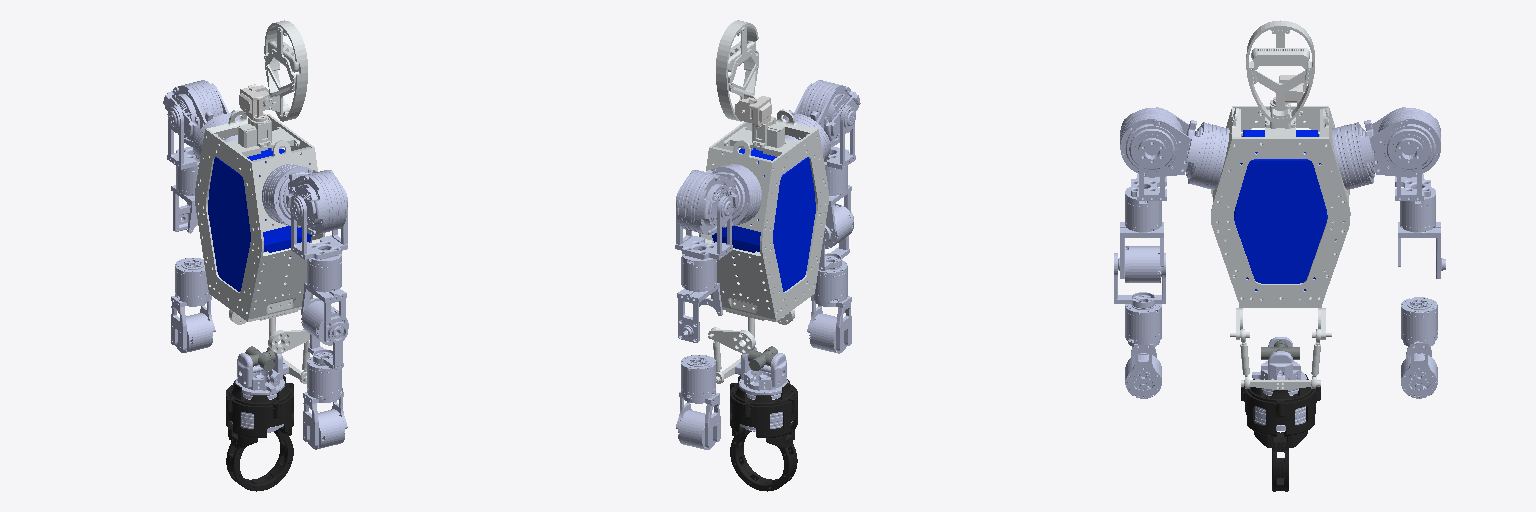
robot.urdf — sentient_humanoid_upper_body:
<?xml version='1.0' encoding='utf-8'?>
<robot name="sentient_humanoid_upper_body">
  <link name="humanoid_origin" />
  <link name="pelvis">
    <visual>
      <origin xyz="0 0 0" rpy="0 0 0" />
      <geometry>
        <mesh filename="package://humanoid_pkg/meshes/base_link.stl" />
      </geometry>
      <material name="dark">
        <color rgba="0.2 0.2 0.2 1" />
      </material>
    </visual>
  </link>
  <link name="base_link">
    <inertial>
      <origin xyz="0.00011927 -0.053041 0.11817" rpy="0 0 0" />
      <mass value="0.85358" />
      <inertia ixx="0.0012389" ixy="-1.2474E-07" ixz="3.1171E-09" iyy="0.0016461" iyz="-3.8131E-06" izz="0.0013091" />
    </inertial>
    <visual>
      <origin xyz="0 0 0" rpy="0 0 0" />
      <geometry>
        <mesh filename="package://humanoid_pkg/meshes/base_link.stl" />
      </geometry>
      <material name="">
        <color rgba="0.89804 0.91765 0.92941 1" />
      </material>
    </visual>
    <collision>
      <origin xyz="0 0 0" rpy="0 0 0" />
      <geometry>
        <mesh filename="package://humanoid_pkg/meshes/base_link.stl" />
      </geometry>
    </collision>
  </link>
  <joint name="base_link_joint" type="fixed">
    <parent link="pelvis" />
    <child link="base_link" />
  </joint>
  <link name="torso_link">
    <inertial>
      <origin xyz="0.00078123 -0.00026047 0.013243" rpy="0 0 0" />
      <mass value="0.96233" />
      <inertia ixx="0.00046878" ixy="5.0679E-10" ixz="3.3744E-06" iyy="0.00045115" iyz="2.8575E-07" izz="0.000663" />
    </inertial>
    <visual>
      <origin xyz="0 0 0" rpy="0 0 0" />
      <geometry>
        <mesh filename="package://humanoid_pkg/meshes/torso_link.stl" />
      </geometry>
      <material name="">
        <color rgba="0.79216 0.81961 0.93333 1" />
      </material>
    </visual>
    <collision>
      <origin xyz="0 0 0" rpy="0 0 0" />
      <geometry>
        <mesh filename="package://humanoid_pkg/meshes/torso_link.stl" />
      </geometry>
    </collision>
  </link>
  <joint name="torso_joint" type="revolute">
    <origin xyz="2.08135124461772E-05 -0.0639999966156143 0.1123" rpy="0 0 0.000325211137678403" />
    <parent link="base_link" />
    <child link="torso_link" />
    <axis xyz="0 0 1" />
    <limit lower="-1.570796326795" upper="1.570796326795" effort="10" velocity="1.0" />
  </joint>
  <link name="waist_roll_link">
    <inertial>
      <origin xyz="-3.1564E-09 3.1564E-09 1.3878E-16" rpy="0 0 0" />
      <mass value="0.23579" />
      <inertia ixx="5.1045E-05" ixy="-2.3525E-18" ixz="4.2913E-11" iyy="5.1045E-05" iyz="4.2913E-11" izz="9.0898E-05" />
    </inertial>
    <visual>
      <origin xyz="0 0 0" rpy="0 0 0" />
      <geometry>
        <mesh filename="package://humanoid_pkg/meshes/waist_roll_link.stl" />
      </geometry>
      <material name="">
        <color rgba="0.52941 0.54902 0.54902 1" />
      </material>
    </visual>
    <collision>
      <origin xyz="0 0 0" rpy="0 0 0" />
      <geometry>
        <mesh filename="package://humanoid_pkg/meshes/waist_roll_link.stl" />
      </geometry>
    </collision>
  </link>
  <joint name="waist_roll_joint" type="revolute">
    <origin xyz="0 0 0.0615999999999845" rpy="0 0 0" />
    <parent link="torso_link" />
    <child link="waist_roll_link" />
    <axis xyz="1 0 0" />
    <limit lower="-0.270002435284" upper="0.270002435284" effort="10" velocity="1.0" />
  </joint>
  <link name="waist_pitch_link">
    <inertial>
      <origin xyz="-0.00021479 0.02804 0.057521" rpy="0 0 0" />
      <mass value="0.91683" />
      <inertia ixx="0.0010179" ixy="-3.869E-07" ixz="3.1729E-07" iyy="0.0011541" iyz="-3.7643E-08" izz="0.00051514" />
    </inertial>
    <visual>
      <origin xyz="0 0 0" rpy="0 0 0" />
      <geometry>
        <mesh filename="package://humanoid_pkg/meshes/waist_pitch_link.stl" />
      </geometry>
      <material name="">
        <color rgba="0.89804 0.91765 0.92941 1" />
      </material>
    </visual>
    <collision>
      <origin xyz="0 0 0" rpy="0 0 0" />
      <geometry>
        <mesh filename="package://humanoid_pkg/meshes/waist_pitch_link.stl" />
      </geometry>
    </collision>
  </link>
  <joint name="waist_pitch_joint" type="revolute">
    <origin xyz="0 -0.0300000000000053 0" rpy="0 0 0" />
    <parent link="waist_roll_link" />
    <child link="waist_pitch_link" />
    <axis xyz="0 1 0" />
    <limit lower="-0.767944870878" upper="0.767944870878" effort="10" velocity="1.0" />
  </joint>
  <link name="chest_link">
    <inertial>
      <origin xyz="-0.059002 -4.6806E-06 -0.032819" rpy="0 0 0" />
      <mass value="1.7205" />
      <inertia ixx="0.0090608" ixy="-1.7864E-07" ixz="-5.4617E-07" iyy="0.0073219" iyz="6.0203E-08" izz="0.0046362" />
    </inertial>
    <visual>
      <origin xyz="0 0 0" rpy="0 0 0" />
      <geometry>
        <mesh filename="package://humanoid_pkg/meshes/chest_link.stl" />
      </geometry>
      <material name="">
        <color rgba="0.89804 0.91765 0.92941 1" />
      </material>
    </visual>
    <collision>
      <origin xyz="0 0 0" rpy="0 0 0" />
      <geometry>
        <mesh filename="package://humanoid_pkg/meshes/chest_link.stl" />
      </geometry>
    </collision>
  </link>
  <link name="battery_link">
    <inertial>
      <origin xyz="0 0 0" rpy="0 0 0" />
      <mass value="7" />
      <inertia ixx="0.035" ixy="0.0" ixz="0.0" iyy="0.037" iyz="0.0" izz="0.014" />
    </inertial>
    <visual>
      <origin xyz="-0.055 -0.07497698 -0.115" rpy="1.57079632679 0 1.57079632679" />
      <geometry>
        <mesh filename="package://humanoid_pkg/meshes/battery.stl" scale="0.001 0.001 0.001" />
      </geometry>
      <material name="battery_blue">
        <color rgba="0.0 0.18 1.0 1" />
      </material>
    </visual>
    <collision>
      <origin xyz="-0.055 -0.07497698 -0.115" rpy="1.57079632679 0 1.57079632679" />
      <geometry>
        <mesh filename="package://humanoid_pkg/meshes/battery.stl" scale="0.001 0.001 0.001" />
      </geometry>
    </collision>
  </link>
  <joint name="chest_joint" type="fixed">
    <origin xyz="0.0589999999999813 0.0299987979681032 0.254963551720086" rpy="0 0 0" />
    <parent link="waist_pitch_link" />
    <child link="chest_link" />
    <axis xyz="0 0 0" />
  </joint>
  <joint name="battery_joint" type="fixed">
    <origin xyz="-0.06 0.0 -0.015" rpy="0 0 0" />
    <parent link="chest_link" />
    <child link="battery_link" />
  </joint>
  <link name="left_shoulder_pitch_link">
    <inertial>
      <origin xyz="0.00031467 -0.0041125 -0.0009434" rpy="0 0 0" />
      <mass value="0.55787" />
      <inertia ixx="0.00046536" ixy="-2.4876E-08" ixz="2.6512E-07" iyy="0.00054598" iyz="6.1625E-05" izz="0.00033254" />
    </inertial>
    <visual>
      <origin xyz="0 0 0" rpy="0 0 0" />
      <geometry>
        <mesh filename="package://humanoid_pkg/meshes/left_shoulder_pitch_link.stl" />
      </geometry>
      <material name="">
        <color rgba="0.79216 0.81961 0.93333 1" />
      </material>
    </visual>
    <collision>
      <origin xyz="0 0 0" rpy="0 0 0" />
      <geometry>
        <mesh filename="package://humanoid_pkg/meshes/left_shoulder_pitch_link.stl" />
      </geometry>
    </collision>
  </link>
  <joint name="left_shoulder_pitch_joint" type="revolute">
    <origin xyz="-0.0589999999999941 0.133920443430172 0.0867417663212657" rpy="0 0 0" />
    <parent link="chest_link" />
    <child link="left_shoulder_pitch_link" />
    <axis xyz="0 0.965925826289068 0.258819045102522" />
    <limit lower="-3.141592653590" upper="3.141592653590" effort="10" velocity="1.0" />
  </joint>
  <link name="left_shoulder_roll_link">
    <inertial>
      <origin xyz="-0.019316 0.00045538 -0.0075538" rpy="0 0 0" />
      <mass value="0.48965" />
      <inertia ixx="0.00052874" ixy="1.5282E-06" ixz="2.6093E-07" iyy="0.00033494" iyz="-1.2208E-05" izz="0.00033875" />
    </inertial>
    <visual>
      <origin xyz="0 0 0" rpy="0 0 0" />
      <geometry>
        <mesh filename="package://humanoid_pkg/meshes/left_shoulder_roll_link.stl" />
      </geometry>
      <material name="">
        <color rgba="0.79216 0.81961 0.93333 1" />
      </material>
    </visual>
    <collision>
      <origin xyz="0 0 0" rpy="0 0 0" />
      <geometry>
        <mesh filename="package://humanoid_pkg/meshes/left_shoulder_roll_link.stl" />
      </geometry>
    </collision>
  </link>
  <joint name="left_shoulder_roll_joint" type="revolute">
    <origin xyz="-0.0213499999999808 0.0647170303613817 0.0173408760218703" rpy="0 0 3.14159265359" />
    <parent link="left_shoulder_pitch_link" />
    <child link="left_shoulder_roll_link" />
    <axis xyz="-1 0 0" />
    <limit lower="-0.356919832033" upper="3.141592653590" effort="10" velocity="1.0" />
  </joint>
  <link name="left_elbow_yaw_link">
    <inertial>
      <origin xyz="3.389E-05 -0.0037073 0.00016863" rpy="0 0 0" />
      <mass value="0.24344" />
      <inertia ixx="9.1765E-05" ixy="-1.8509E-08" ixz="-5.5968E-08" iyy="9.535E-05" iyz="-4.6348E-07" izz="8.437E-05" />
    </inertial>
    <visual>
      <origin xyz="0 0 0" rpy="0 0 0" />
      <geometry>
        <mesh filename="package://humanoid_pkg/meshes/left_elbow_yaw_link.stl" />
      </geometry>
      <material name="">
        <color rgba="0.79216 0.81961 0.93333 1" />
      </material>
    </visual>
    <collision>
      <origin xyz="0 0 0" rpy="0 0 0" />
      <geometry>
        <mesh filename="package://humanoid_pkg/meshes/left_elbow_yaw_link.stl" />
      </geometry>
    </collision>
  </link>
  <joint name="left_elbow_yaw_joint" type="revolute">
    <origin xyz="-0.0196500000008165 -0.0133178667899935 -0.140580365488154" rpy="0 0 0" />
    <parent link="left_shoulder_roll_link" />
    <child link="left_elbow_yaw_link" />
    <axis xyz="0 0 -1" />
    <limit lower="-1.570796326795" upper="1.570796326795" effort="10" velocity="1.0" />
  </joint>
  <link name="left_elbow_forearm_yaw_link">
    <inertial>
      <origin xyz="4.0886E-05 -0.026352 -0.013654" rpy="0 0 0" />
      <mass value="0.20469" />
      <inertia ixx="8.4119E-05" ixy="5.7255E-08" ixz="-1.8341E-08" iyy="8.0815E-05" iyz="1.478E-07" izz="6.5937E-05" />
    </inertial>
    <visual>
      <origin xyz="0 0 0" rpy="0 0 0" />
      <geometry>
        <mesh filename="package://humanoid_pkg/meshes/right_elbow_forearm_yaw_link.stl" />
      </geometry>
      <material name="">
        <color rgba="0.79216 0.81961 0.93333 1" />
      </material>
    </visual>
    <collision>
      <origin xyz="0 0 0" rpy="0 0 0" />
      <geometry>
        <mesh filename="package://humanoid_pkg/meshes/right_elbow_forearm_yaw_link.stl" />
      </geometry>
    </collision>
  </link>
  <joint name="left_elbow_forearm_yaw_joint" type="revolute">
    <origin xyz="0 -0.028499999999996 -0.0682500000000194" rpy="0 0 3.14159265359" />
    <parent link="left_elbow_yaw_link" />
    <child link="left_elbow_forearm_yaw_link" />
    <axis xyz="0 -1 0" />
    <limit lower="-1.570796326795" upper="1.570796326795" effort="10" velocity="1.0" />
  </joint>
  <link name="left_wrist_yaw_link">
    <inertial>
      <origin xyz="-0.0022153 -0.00030373 -0.017432" rpy="0 0 0" />
      <mass value="0.3165" />
      <inertia ixx="0.00013143" ixy="3.0794E-08" ixz="4.312E-07" iyy="0.0001122" iyz="-3.0606E-08" izz="0.00010375" />
    </inertial>
    <visual>
      <origin xyz="0 0 0" rpy="0 0 0" />
      <geometry>
        <mesh filename="package://humanoid_pkg/meshes/left_wrist_yaw_link.stl" />
      </geometry>
      <material name="">
        <color rgba="0.79216 0.81961 0.93333 1" />
      </material>
    </visual>
    <collision>
      <origin xyz="0 0 0" rpy="0 0 0" />
      <geometry>
        <mesh filename="package://humanoid_pkg/meshes/left_wrist_yaw_link.stl" />
      </geometry>
    </collision>
  </link>
  <joint name="left_wrist_yaw_joint" type="revolute">
    <origin xyz="2.72119635786744E-05 -0.0261962529456502 -0.12349999999999" rpy="0 0 0" />
    <parent link="left_elbow_forearm_yaw_link" />
    <child link="left_wrist_yaw_link" />
    <axis xyz="0 0 -1" />
    <limit lower="-1.570796326795" upper="1.570796326795" effort="10" velocity="1.0" />
  </joint>
  <link name="right_shoulder_pitch_link">
    <inertial>
      <origin xyz="0.00031467 0.0086652 -0.0021119" rpy="0 0 0" />
      <mass value="0.55787" />
      <inertia ixx="0.00046536" ixy="2.4609E-08" ixz="2.6413E-07" iyy="0.00054599" iyz="-6.1605E-05" izz="0.00033253" />
    </inertial>
    <visual>
      <origin xyz="0 0 0" rpy="0 0 0" />
      <geometry>
        <mesh filename="package://humanoid_pkg/meshes/right_shoulder_pitch_link.stl" />
      </geometry>
      <material name="">
        <color rgba="0.79216 0.81961 0.93333 1" />
      </material>
    </visual>
    <collision>
      <origin xyz="0 0 0" rpy="0 0 0" />
      <geometry>
        <mesh filename="package://humanoid_pkg/meshes/right_shoulder_pitch_link.stl" />
      </geometry>
    </collision>
  </link>
  <joint name="right_shoulder_pitch_joint" type="revolute">
    <origin xyz="-0.0589999999999747 -0.138457890749933 0.0879582158332528" rpy="0 0 0" />
    <parent link="chest_link" />
    <child link="right_shoulder_pitch_link" />
    <axis xyz="0 -0.965925826289067 0.258819045102526" />
    <limit lower="-3.141592653590" upper="3.141592653590" effort="10" velocity="1.0" />
  </joint>
  <link name="right_shoulder_roll_link">
    <inertial>
      <origin xyz="-0.019338 -0.00043324 -0.007383" rpy="0 0 0" />
      <mass value="0.48888" />
      <inertia ixx="0.00052841" ixy="-1.5939E-06" ixz="2.8547E-07" iyy="0.00033462" iyz="1.2209E-05" izz="0.00033811" />
    </inertial>
    <visual>
      <origin xyz="0 0 0" rpy="0 0 0" />
      <geometry>
        <mesh filename="package://humanoid_pkg/meshes/right_shoulder_roll_link.stl" />
      </geometry>
      <material name="">
        <color rgba="0.79216 0.81961 0.93333 1" />
      </material>
    </visual>
    <collision>
      <origin xyz="0 0 0" rpy="0 0 0" />
      <geometry>
        <mesh filename="package://humanoid_pkg/meshes/right_shoulder_roll_link.stl" />
      </geometry>
    </collision>
  </link>
  <joint name="right_shoulder_roll_joint" type="revolute">
    <origin xyz="-0.0213500000000035 -0.0601771789778188 0.0161244265098969" rpy="0 0 3.14159265359" />
    <parent link="right_shoulder_pitch_link" />
    <child link="right_shoulder_roll_link" />
    <axis xyz="-1 0 0" />
    <limit lower="-3.141592653590" upper="0.356919832033" effort="10" velocity="1.0" />
  </joint>
  <link name="right_elbow_yaw_link">
    <inertial>
      <origin xyz="-4.3563E-07 0.0037417 0.00016863" rpy="0 0 0" />
      <mass value="0.24344" />
      <inertia ixx="9.1717E-05" ixy="1.8529E-08" ixz="2.6213E-09" iyy="9.5398E-05" iyz="4.048E-07" izz="8.437E-05" />
    </inertial>
    <visual>
      <origin xyz="0 0 0" rpy="0 0 0" />
      <geometry>
        <mesh filename="package://humanoid_pkg/meshes/right_elbow_yaw_link.stl" />
      </geometry>
      <material name="">
        <color rgba="0.79216 0.81961 0.93333 1" />
      </material>
    </visual>
    <collision>
      <origin xyz="0 0 0" rpy="0 0 0" />
      <geometry>
        <mesh filename="package://humanoid_pkg/meshes/right_elbow_yaw_link.stl" />
      </geometry>
    </collision>
  </link>
  <joint name="right_elbow_yaw_joint" type="revolute">
    <origin xyz="-0.0196499999999985 0.0133178667891752 -0.140580365488174" rpy="0 0 0" />
    <parent link="right_shoulder_roll_link" />
    <child link="right_elbow_yaw_link" />
    <axis xyz="0 0 -1" />
    <limit lower="-1.570796326795" upper="1.570796326795" effort="10" velocity="1.0" />
  </joint>
  <link name="right_elbow_forearm_yaw_link">
    <inertial>
      <origin xyz="-0.00034522 -0.028398 -0.013635" rpy="0 0 0" />
      <mass value="0.20469" />
      <inertia ixx="8.4119E-05" ixy="5.7255E-08" ixz="1.8341E-08" iyy="8.0815E-05" iyz="-1.478E-07" izz="6.5937E-05" />
    </inertial>
    <visual>
      <origin xyz="0 0 0" rpy="0 0 0" />
      <geometry>
        <mesh filename="package://humanoid_pkg/meshes/left_elbow_forearm_yaw_link.stl" />
      </geometry>
      <material name="">
        <color rgba="0.79216 0.81961 0.93333 1" />
      </material>
    </visual>
    <collision>
      <origin xyz="0 0 0" rpy="0 0 0" />
      <geometry>
        <mesh filename="package://humanoid_pkg/meshes/left_elbow_forearm_yaw_link.stl" />
      </geometry>
    </collision>
  </link>
  <joint name="right_elbow_forearm_yaw_joint" type="revolute">
    <origin xyz="0.000304330674491246 0.0282500000008096 -0.068269636815096" rpy="0 0 0" />
    <parent link="right_elbow_yaw_link" />
    <child link="right_elbow_forearm_yaw_link" />
    <axis xyz="0 -1 0" />
    <limit lower="-1.570796326795" upper="1.570796326795" effort="140" velocity="1.0" />
  </joint>
  <link name="right_wrist_yaw_link">
    <inertial>
      <origin xyz="-0.0019393 0.00024629 -0.017432" rpy="0 0 0" />
      <mass value="0.3165" />
      <inertia ixx="0.00013144" ixy="6.582E-08" ixz="4.7674E-07" iyy="0.00011219" iyz="6.2895E-08" izz="0.00010375" />
    </inertial>
    <visual>
      <origin xyz="0 0 0" rpy="0 0 0" />
      <geometry>
        <mesh filename="package://humanoid_pkg/meshes/right_wrist_yaw_link.stl" />
      </geometry>
      <material name="">
        <color rgba="0.79216 0.81961 0.93333 1" />
      </material>
    </visual>
    <collision>
      <origin xyz="0 0 0" rpy="0 0 0" />
      <geometry>
        <mesh filename="package://humanoid_pkg/meshes/right_wrist_yaw_link.stl" />
      </geometry>
    </collision>
  </link>
  <joint name="right_wrist_yaw_joint" type="revolute">
    <origin xyz="-0.000533410283256361 -0.0284513089585393 -0.123480363184904" rpy="0 0 3.14159265359" />
    <parent link="right_elbow_forearm_yaw_link" />
    <child link="right_wrist_yaw_link" />
    <axis xyz="0 0 -1" />
    <limit lower="-1.570796326795" upper="1.570796326795" effort="10" velocity="1.0" />
  </joint>
  <link name="waist_rod_link">
    <inertial>
      <origin xyz="0.035116 0.005 -0.036408" rpy="0 0 0" />
      <mass value="0.16381" />
      <inertia ixx="4.8765E-05" ixy="-1.711E-10" ixz="-7.0973E-07" iyy="4.5916E-05" iyz="1.3557E-12" izz="7.5079E-05" />
    </inertial>
    <visual>
      <origin xyz="0 0 0" rpy="0 0 0" />
      <geometry>
        <mesh filename="package://humanoid_pkg/meshes/waist_rod_link.stl" />
      </geometry>
      <material name="">
        <color rgba="0.89804 0.91765 0.92941 1" />
      </material>
    </visual>
    <collision>
      <origin xyz="0 0 0" rpy="0 0 0" />
      <geometry>
        <mesh filename="package://humanoid_pkg/meshes/waist_rod_link.stl" />
      </geometry>
    </collision>
  </link>
  <joint name="waist_rod_joint" type="revolute">
    <origin xyz="0 0.0250000000000015 0.0560999999999998" rpy="0 0 0" />
    <parent link="waist_pitch_link" />
    <child link="waist_rod_link" />
    <axis xyz="0 -1 0" />
    <limit lower="-0.767944870878" upper="0.767944870878" effort="140" velocity="1.0" />
  </joint>
  <joint name="humanoid_origin_to_upper_body" type="fixed">
    <origin xyz="0 0 0" rpy="0 0 0" />
    <parent link="humanoid_origin" />
    <child link="pelvis" />
  </joint>
  <link name="neck_joint_mount" />
  <link name="neck_link">
    <inertial>
      <origin xyz="-0.0065711 1.1221E-07 -0.024709" rpy="0 0 0" />
      <mass value="0.057826" />
      <inertia ixx="1.273E-05" ixy="5.486E-11" ixz="-2.4607E-07" iyy="1.3612E-05" iyz="-4.3063E-11" izz="1.4071E-05" />
    </inertial>
    <visual>
      <origin xyz="0 0 0" rpy="0 0 0" />
      <geometry>
        <mesh filename="package://humanoid_pkg/meshes/neck_link.stl" />
      </geometry>
      <material name="">
        <color rgba="0.89804 0.91765 0.92941 1" />
      </material>
    </visual>
    <collision>
      <origin xyz="0 0 0" rpy="0 0 0" />
      <geometry>
        <mesh filename="package://humanoid_pkg/meshes/neck_link.stl" />
      </geometry>
    </collision>
  </link>
  <joint name="neck_joint" type="fixed">
    <parent link="neck_joint_mount" />
    <child link="neck_link" />
    <axis xyz="0 0 0" />
  </joint>
  <link name="neck_yaw_link">
    <inertial>
      <origin xyz="0.0026021 0.017715 0.019315" rpy="0 0 0" />
      <mass value="0.084323" />
      <inertia ixx="2.4885E-05" ixy="1.1417E-06" ixz="1.0184E-07" iyy="2.2161E-05" iyz="-3.6443E-06" izz="1.932E-05" />
    </inertial>
    <visual>
      <origin xyz="0 0 0" rpy="0 0 0" />
      <geometry>
        <mesh filename="package://humanoid_pkg/meshes/neck_yaw_link.stl" />
      </geometry>
      <material name="">
        <color rgba="0.89804 0.89804 0.89804 1" />
      </material>
    </visual>
    <collision>
      <origin xyz="0 0 0" rpy="0 0 0" />
      <geometry>
        <mesh filename="package://humanoid_pkg/meshes/neck_yaw_link.stl" />
      </geometry>
    </collision>
  </link>
  <joint name="neck_yaw_joint" type="revolute">
    <origin xyz="0 0 0" rpy="0 0 0" />
    <parent link="neck_link" />
    <child link="neck_yaw_link" />
    <axis xyz="0 0 1" />
    <limit lower="-3.141592653590" upper="3.141592653590" effort="10" velocity="1.0" />
  </joint>
  <link name="head_link">
    <inertial>
      <origin xyz="0.027551 -0.0041209 0.046161" rpy="0 0 0" />
      <mass value="0.18871" />
      <inertia ixx="0.00064097" ixy="4.7808E-07" ixz="-1.3992E-06" iyy="0.00045607" iyz="-1.8574E-06" izz="0.00019729" />
    </inertial>
    <visual>
      <origin xyz="0 0 0" rpy="0 0 0" />
      <geometry>
        <mesh filename="package://humanoid_pkg/meshes/head_link.stl" />
      </geometry>
      <material name="">
        <color rgba="0.89804 0.91765 0.92941 1" />
      </material>
    </visual>
    <collision>
      <origin xyz="0 0 0" rpy="0 0 0" />
      <geometry>
        <mesh filename="package://humanoid_pkg/meshes/head_link.stl" />
      </geometry>
    </collision>
  </link>
  <joint name="head_joint" type="revolute">
    <origin xyz="0.0176150000000058 0.00449999999987008 0.0230050000000284" rpy="0 0 0" />
    <parent link="neck_yaw_link" />
    <child link="head_link" />
    <axis xyz="0 1 0" />
    <limit lower="-0.785398163397" upper="0.499862297771" effort="10" velocity="1.0" />
  </joint>
  <link name="camera_link">
    <inertial>
      <origin xyz="-0.012444 1.1266E-05 -0.00013611" rpy="0 0 0" />
      <mass value="0.10791" />
      <inertia ixx="7.1255E-05" ixy="-1.7847E-08" ixz="4.9298E-08" iyy="7.71E-06" iyz="2.4825E-10" izz="7.0257E-05" />
    </inertial>
    <visual>
      <origin xyz="0 0 0" rpy="0 0 0" />
      <geometry>
        <mesh filename="package://humanoid_pkg/meshes/camera_link.stl" />
      </geometry>
      <material name="">
        <color rgba="0.89804 0.91765 0.92941 1" />
      </material>
    </visual>
    <collision>
      <origin xyz="0 0 0" rpy="0 0 0" />
      <geometry>
        <mesh filename="package://humanoid_pkg/meshes/camera_link.stl" />
      </geometry>
    </collision>
  </link>
  <joint name="camera_joint" type="fixed">
    <origin xyz="0.0453850000000015 -0.00450000000000009 0.0774061362008152" rpy="0 0 0" />
    <parent link="head_link" />
    <child link="camera_link" />
    <axis xyz="0 0 0" />
  </joint>
  <joint name="chest_link_to_head" type="fixed">
    <origin xyz="-0.0589999999999757 0 0.172550670854567" rpy="0 0 0" />
    <parent link="chest_link" />
    <child link="neck_joint_mount" />
  </joint>
  <link name="head_camera_color_optical" data-preview-kind="camera" data-preview-label="Head camera" data-frame-convention="camera_optical" />
  <joint name="camera_link_to_head_camera_color_optical" type="fixed">
    <origin xyz="0 0 0" rpy="-1.5707963267948966 0 -1.5707963267948966" />
    <parent link="camera_link" />
    <child link="head_camera_color_optical" />
  </joint>
</robot>

--- What the picture shows (computed from the rendered views, not written in the file) ---
Views: 3 orthographic renders of the robot side by side, from view 1: azimuth 30°, elevation 25°; view 2: azimuth 150°, elevation 25°; view 3: azimuth 270°, elevation 25°.
Robot: sentient_humanoid_upper_body — 25 links, 24 joints (16 revolute, 8 fixed); root link humanoid_origin; default pose: every joint at zero.
Links seen in each view (by area): view 1: chest_link, battery_link, pelvis, right_shoulder_roll_link, left_wrist_yaw_link, right_wrist_yaw_link, head_link, left_shoulder_roll_link, right_elbow_yaw_link, torso_link, right_shoulder_pitch_link, right_elbow_forearm_yaw_link (+5 smaller); view 2: chest_link, battery_link, pelvis, left_shoulder_roll_link, left_wrist_yaw_link, right_wrist_yaw_link, right_shoulder_roll_link, left_elbow_yaw_link, head_link, torso_link, left_shoulder_pitch_link, waist_rod_link (+5 smaller); view 3: chest_link, battery_link, pelvis, right_shoulder_roll_link, left_shoulder_roll_link, left_wrist_yaw_link, left_shoulder_pitch_link, right_shoulder_pitch_link, right_wrist_yaw_link, head_link, right_elbow_forearm_yaw_link, right_elbow_yaw_link (+4 smaller).
Link boxes in pixels (bbox=[...]): chest_link: bbox=[195, 109, 324, 321]; battery_link: bbox=[208, 148, 311, 291]; pelvis: bbox=[226, 375, 293, 491]; right_shoulder_roll_link: bbox=[286, 170, 347, 259]; left_wrist_yaw_link: bbox=[171, 258, 215, 352]; right_wrist_yaw_link: bbox=[303, 357, 347, 449]; head_link: bbox=[263, 20, 307, 121]; left_shoulder_roll_link: bbox=[163, 80, 223, 169]; right_elbow_yaw_link: bbox=[301, 250, 346, 342]; torso_link: bbox=[231, 347, 288, 432]; right_shoulder_pitch_link: bbox=[262, 164, 333, 234]; right_elbow_forearm_yaw_link: bbox=[301, 301, 348, 370]; chest_link: bbox=[699, 109, 828, 321]; battery_link: bbox=[712, 148, 815, 291]; pelvis: bbox=[730, 375, 797, 491]; left_shoulder_roll_link: bbox=[675, 170, 737, 259]; left_wrist_yaw_link: bbox=[676, 355, 720, 449]; right_wrist_yaw_link: bbox=[807, 260, 851, 353]; right_shoulder_roll_link: bbox=[800, 80, 860, 169]; left_elbow_yaw_link: bbox=[677, 250, 722, 342]; head_link: bbox=[716, 20, 758, 121]; torso_link: bbox=[735, 347, 792, 431]; left_shoulder_pitch_link: bbox=[690, 164, 761, 234]; waist_rod_link: bbox=[708, 309, 794, 383]; chest_link: bbox=[1211, 106, 1350, 307]; battery_link: bbox=[1234, 130, 1327, 290]; pelvis: bbox=[1241, 374, 1320, 491]; right_shoulder_roll_link: bbox=[1120, 108, 1182, 200]; left_shoulder_roll_link: bbox=[1378, 108, 1440, 200]; left_wrist_yaw_link: bbox=[1401, 297, 1437, 398]; left_shoulder_pitch_link: bbox=[1332, 107, 1422, 189]; right_shoulder_pitch_link: bbox=[1138, 107, 1229, 189]; right_wrist_yaw_link: bbox=[1125, 301, 1161, 398]; head_link: bbox=[1246, 20, 1314, 125]; right_elbow_forearm_yaw_link: bbox=[1114, 246, 1165, 308]; right_elbow_yaw_link: bbox=[1118, 187, 1163, 278].
Bounding box of the posed robot: 0.1269 × 0.5125 × 0.8148 m (x, y, z).
Meshes: 21 distinct files referenced, 20 mesh visuals loaded (19 binary STL); not drawn: 2 (reference not matched to a file when rendering).
